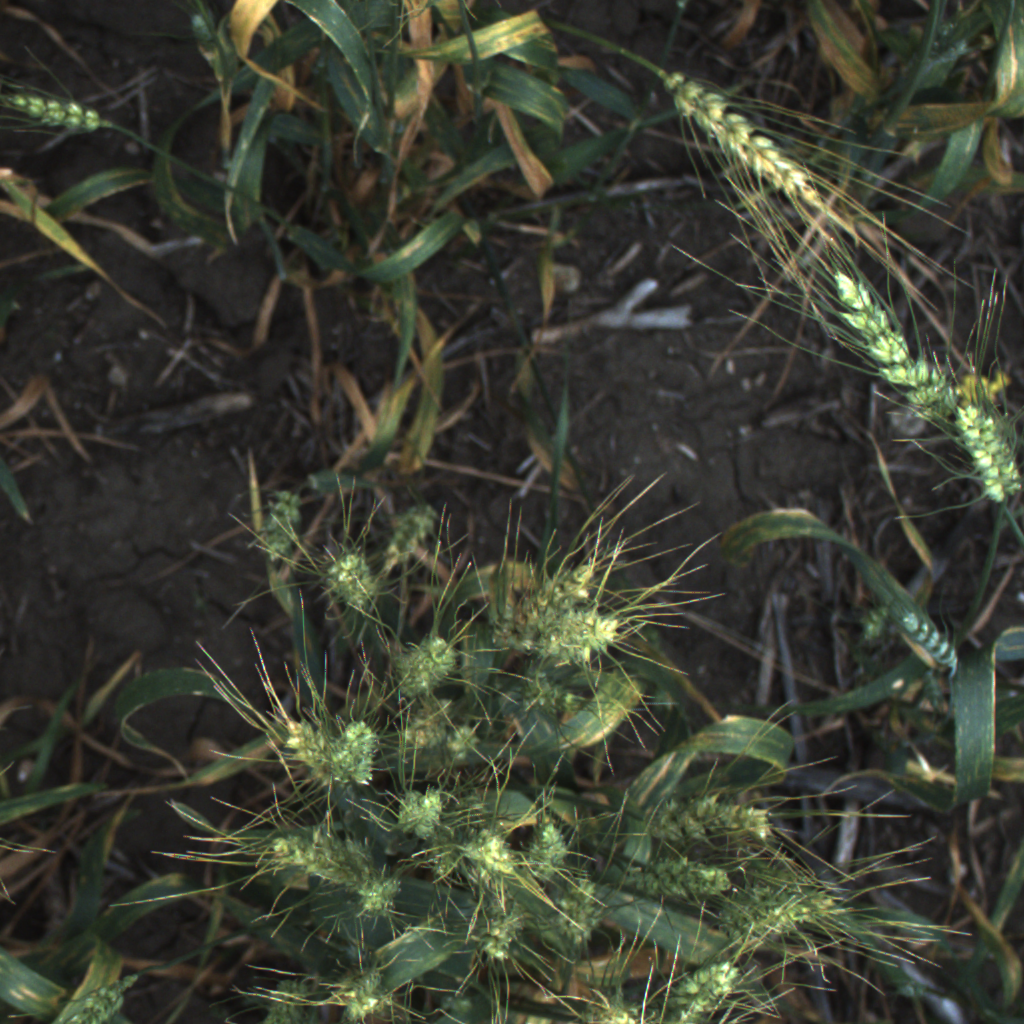wheat_head: (818, 256, 988, 460), (653, 57, 840, 219), (687, 880, 845, 967), (495, 536, 618, 637), (947, 380, 1023, 520), (628, 789, 801, 849), (509, 600, 644, 669), (706, 853, 819, 935), (0, 77, 130, 146), (242, 814, 377, 879), (613, 850, 747, 910), (656, 951, 768, 1019), (382, 623, 471, 701), (277, 704, 349, 800), (893, 606, 974, 688), (451, 820, 537, 895), (309, 531, 393, 606), (454, 910, 541, 978), (510, 671, 612, 725), (333, 862, 407, 935), (329, 710, 388, 791), (555, 871, 614, 952), (49, 972, 146, 1021), (517, 808, 579, 884), (323, 961, 393, 1022), (564, 987, 666, 1022), (391, 780, 448, 841), (394, 704, 448, 759), (439, 715, 488, 770), (416, 848, 456, 894)
